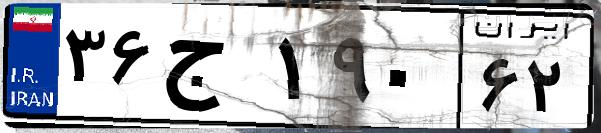0: (385, 28, 445, 110)
1: (270, 28, 330, 110)
2: (525, 38, 570, 115)
3: (57, 26, 110, 100)
6: (475, 38, 525, 113), (110, 28, 158, 98)
9: (330, 28, 385, 110)
ج: (158, 20, 270, 120)
